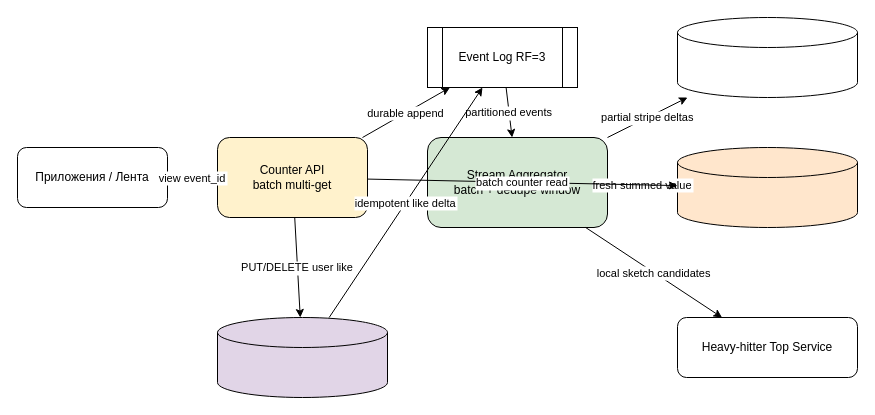
Some shapes in this 875 by 415 pixel diagram are drawn without their labels. The shapes that lost their labels are listed below. From the top down, each one's centre as x and y in pixels, then its label:
At (x=767, y=57): "Striped Persistent Counters".
At (x=767, y=187): "Materialized Redis Cache".
At (x=302, y=357): "Unique Like Membership".
